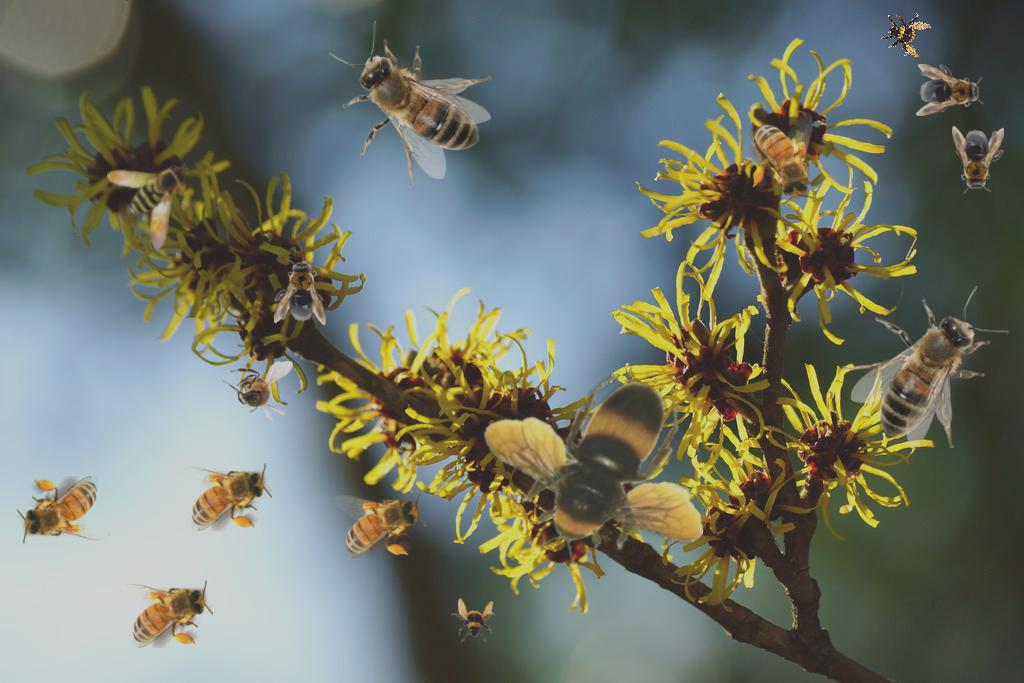Bee: (483, 374, 703, 565), (329, 21, 491, 188), (842, 286, 1009, 448), (107, 163, 189, 251), (333, 491, 426, 559), (749, 112, 817, 205), (120, 580, 213, 648), (17, 476, 110, 544), (179, 463, 272, 531), (223, 361, 293, 422), (952, 126, 1004, 194), (916, 64, 984, 116), (274, 257, 326, 325), (878, 5, 934, 61), (451, 598, 495, 642)
